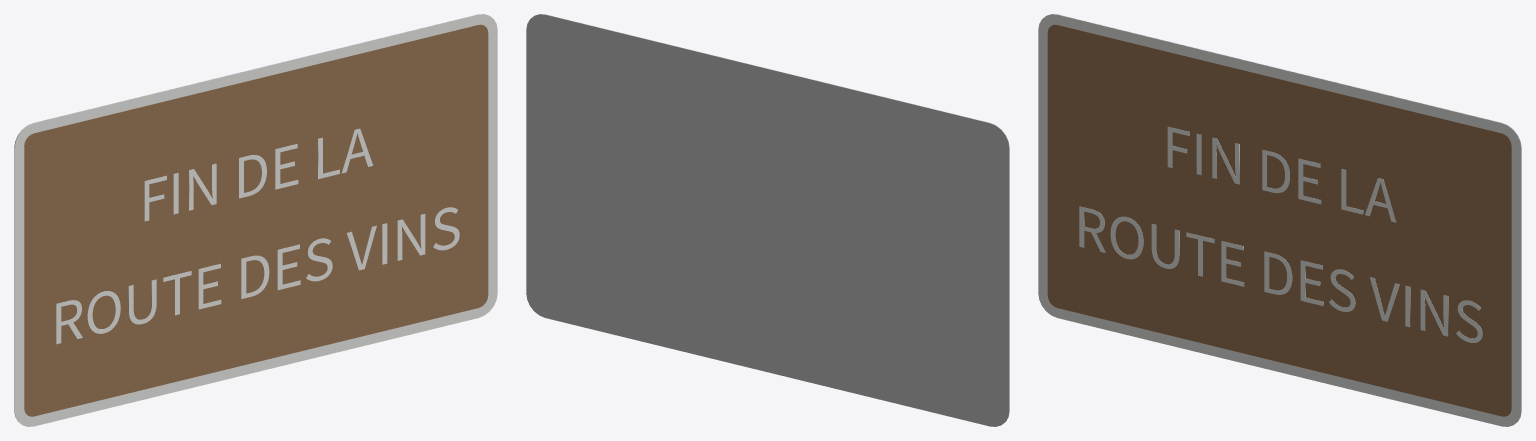
3 renders of one model, left to right at view 1: azimuth 30°, elevation 25°; view 2: azimuth 150°, elevation 25°; view 3: azimuth 330°, elevation 25°, orthographic.
Visible parts, largest first — view 1: H24_r01, H24_r00, H24_txt03, H24_txt02, H24_dos; view 2: H24_dos; view 3: H24_r01, H24_r00, H24_txt03, H24_txt02, H24_dos.
Boxes of the visible parts, left/top/right/bottom form: H24_r01: left=24, top=24, right=488, bottom=416; H24_r00: left=14, top=14, right=497, bottom=426; H24_txt03: left=56, top=207, right=459, bottom=344; H24_txt02: left=144, top=128, right=373, bottom=221; H24_dos: left=14, top=14, right=487, bottom=420; H24_dos: left=526, top=14, right=1009, bottom=426; H24_r01: left=1047, top=24, right=1511, bottom=416; H24_r00: left=1038, top=14, right=1521, bottom=426; H24_txt03: left=1079, top=206, right=1482, bottom=342; H24_txt02: left=1167, top=126, right=1396, bottom=222; H24_dos: left=1048, top=14, right=1521, bottom=420.
Bounding box in the file's own units: 1 × 0.6 × 0.0029.
